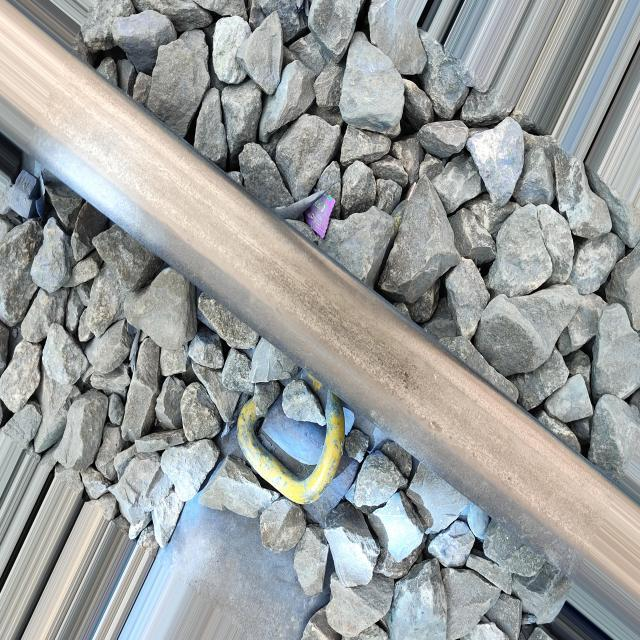Good Fasteners: (237, 370, 359, 524)
